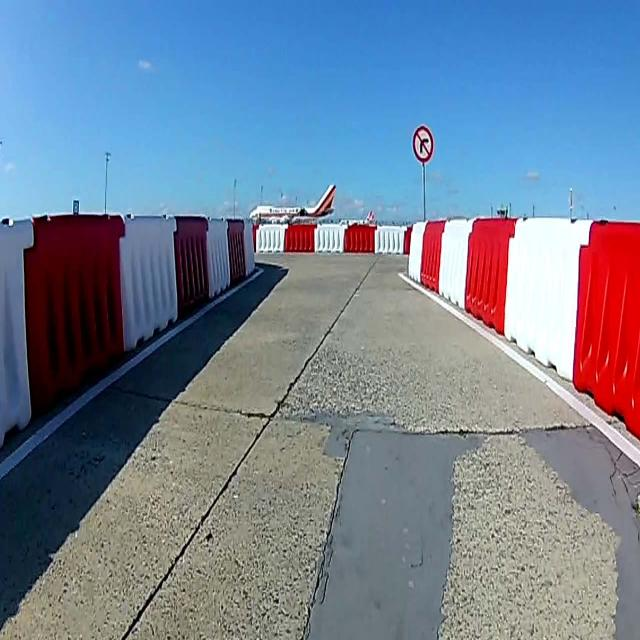sagadonulmez: (412, 124, 434, 163)
